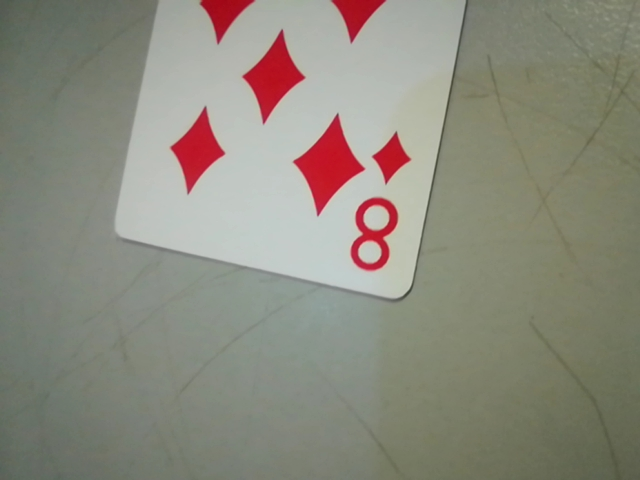fk 8: (345, 124, 418, 285)
